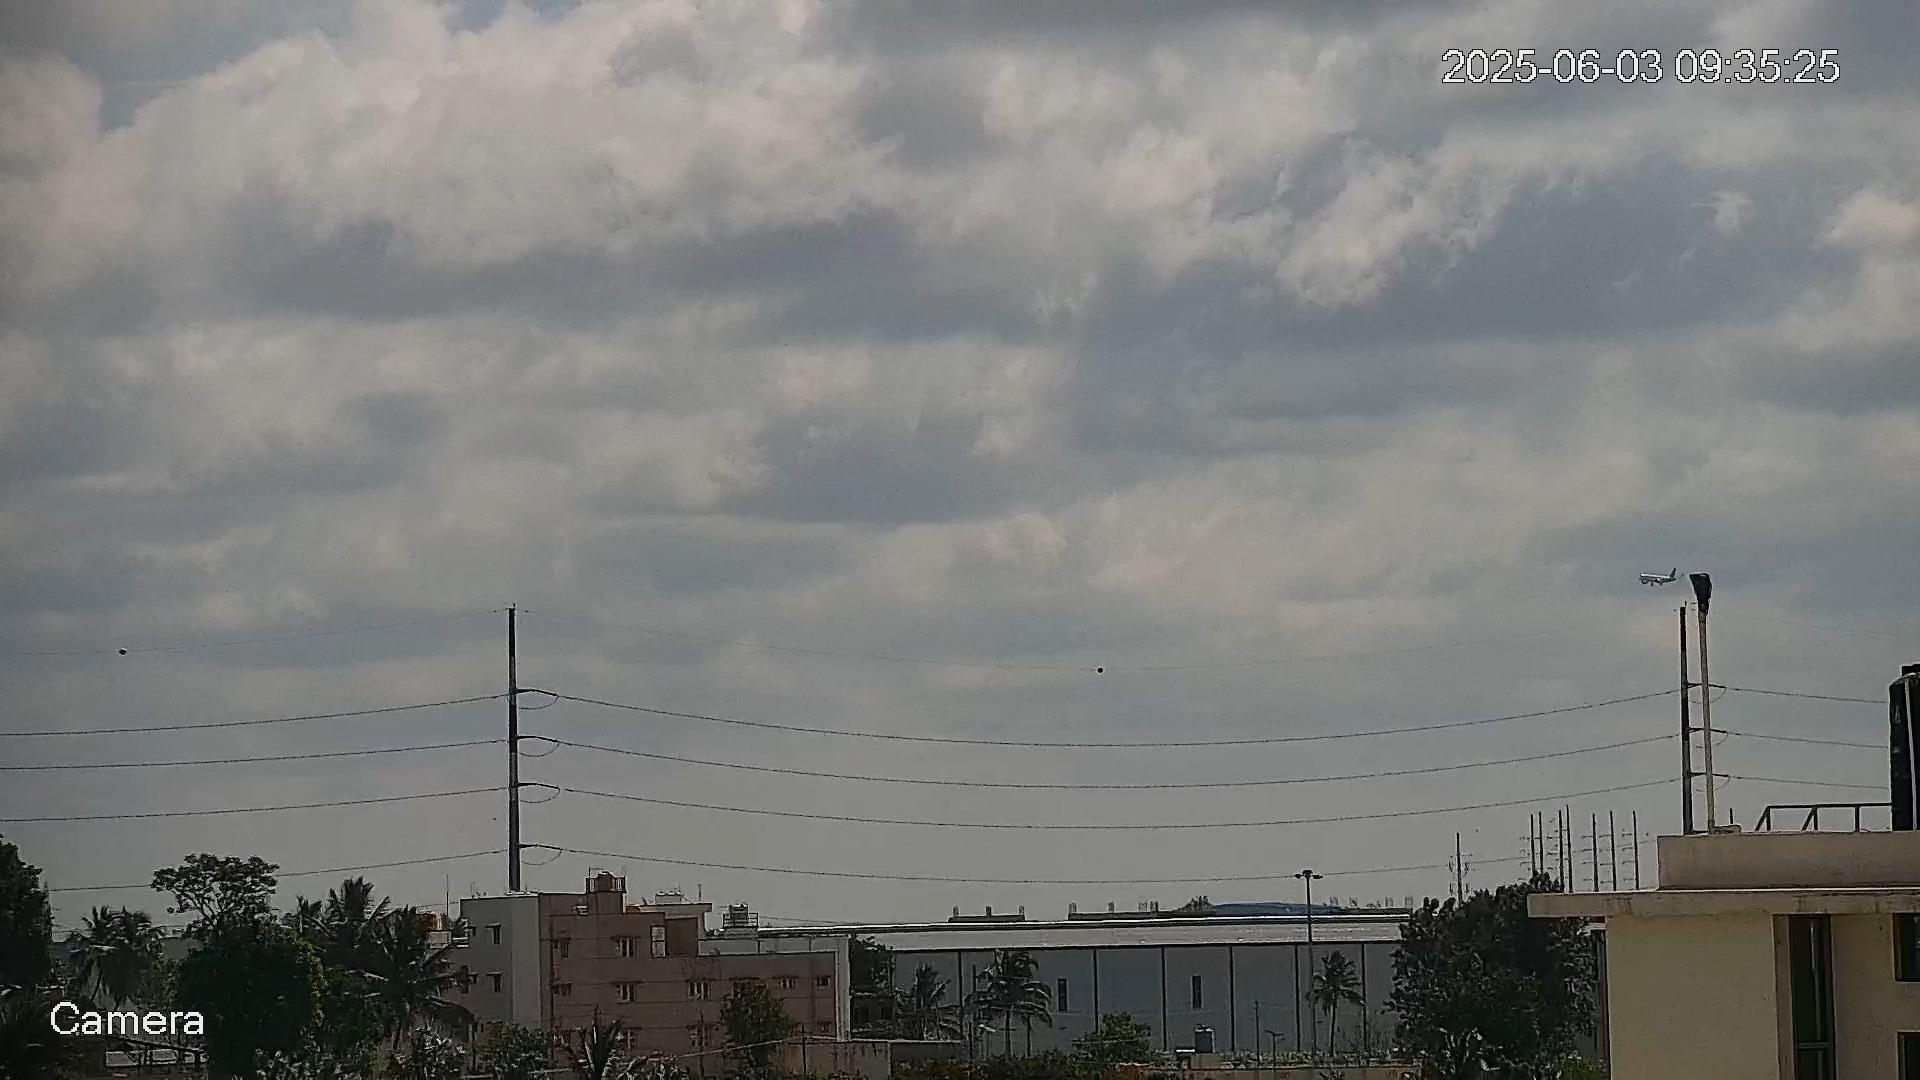Aircraft: (1638, 567, 1680, 588)
